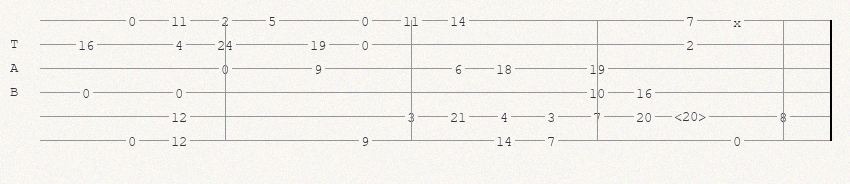0: (82, 86, 94, 99), (128, 14, 140, 27), (128, 134, 140, 147), (175, 86, 187, 99), (221, 62, 233, 75), (361, 14, 373, 27), (361, 38, 373, 51), (733, 134, 745, 147)
10: (589, 86, 609, 99)
11: (171, 14, 191, 27), (403, 14, 423, 27)
12: (171, 110, 191, 123), (171, 134, 191, 147)
14: (450, 14, 470, 27), (496, 134, 516, 147)
16: (78, 38, 98, 51), (636, 86, 656, 99)
18: (496, 62, 516, 75)
19: (310, 38, 330, 51), (589, 62, 609, 75)
2: (221, 14, 233, 27), (686, 38, 698, 51)
20: (636, 110, 656, 123)
21: (450, 110, 470, 123)
24: (217, 38, 237, 51)
3: (407, 110, 419, 123), (547, 110, 559, 123)
4: (175, 38, 187, 51), (500, 110, 512, 123)
5: (268, 14, 280, 27)
6: (454, 62, 466, 75)
7: (547, 134, 559, 147), (593, 110, 605, 123), (686, 14, 698, 27)
8: (779, 110, 791, 123)
9: (314, 62, 326, 75), (361, 134, 373, 147)
harmonic: (674, 109, 710, 123)
x: (733, 15, 745, 25)
